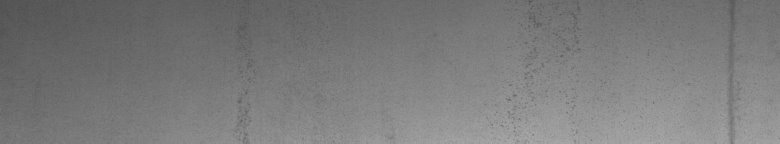ib: (506, 6, 581, 120)
